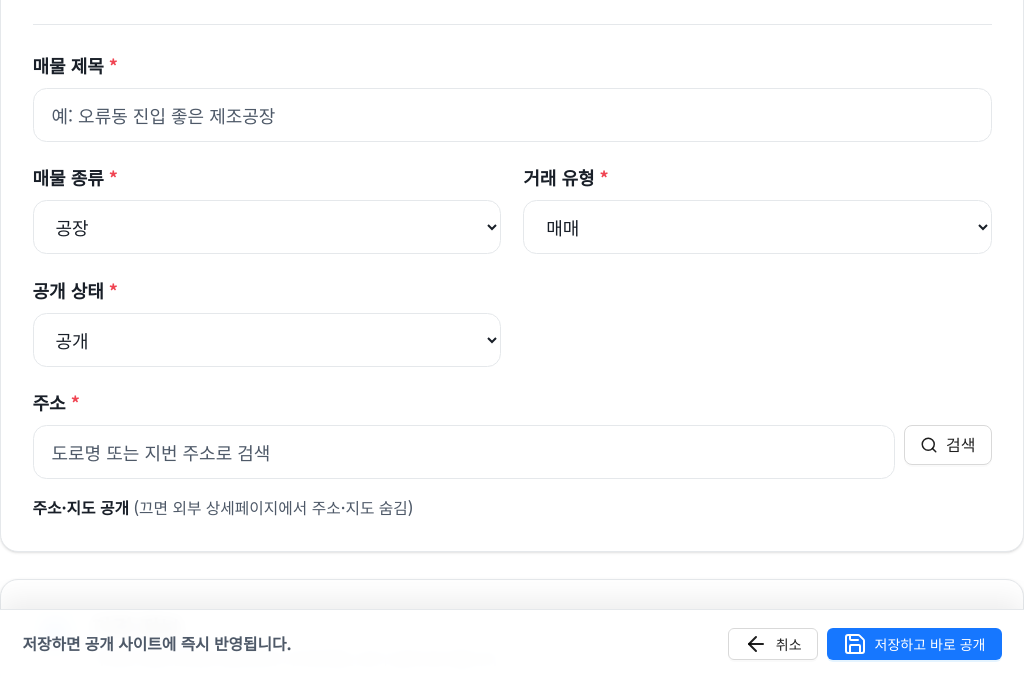
Test: focuses and labels the first invalid field when required data is missing
Click the button "저장하고 바로 공개". click: (914,644)
box: [827,628,1002,660]
(page scrolled)
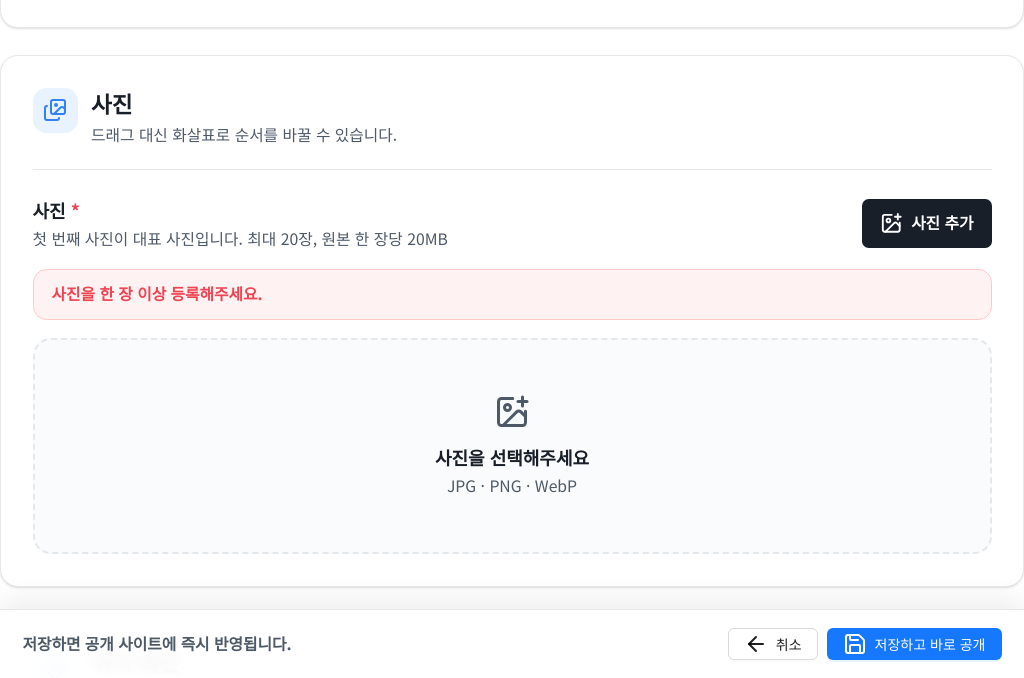
Check: the text "사진을 한 장 이상 등록해주세요." is shown, box [52,282,263,305]
